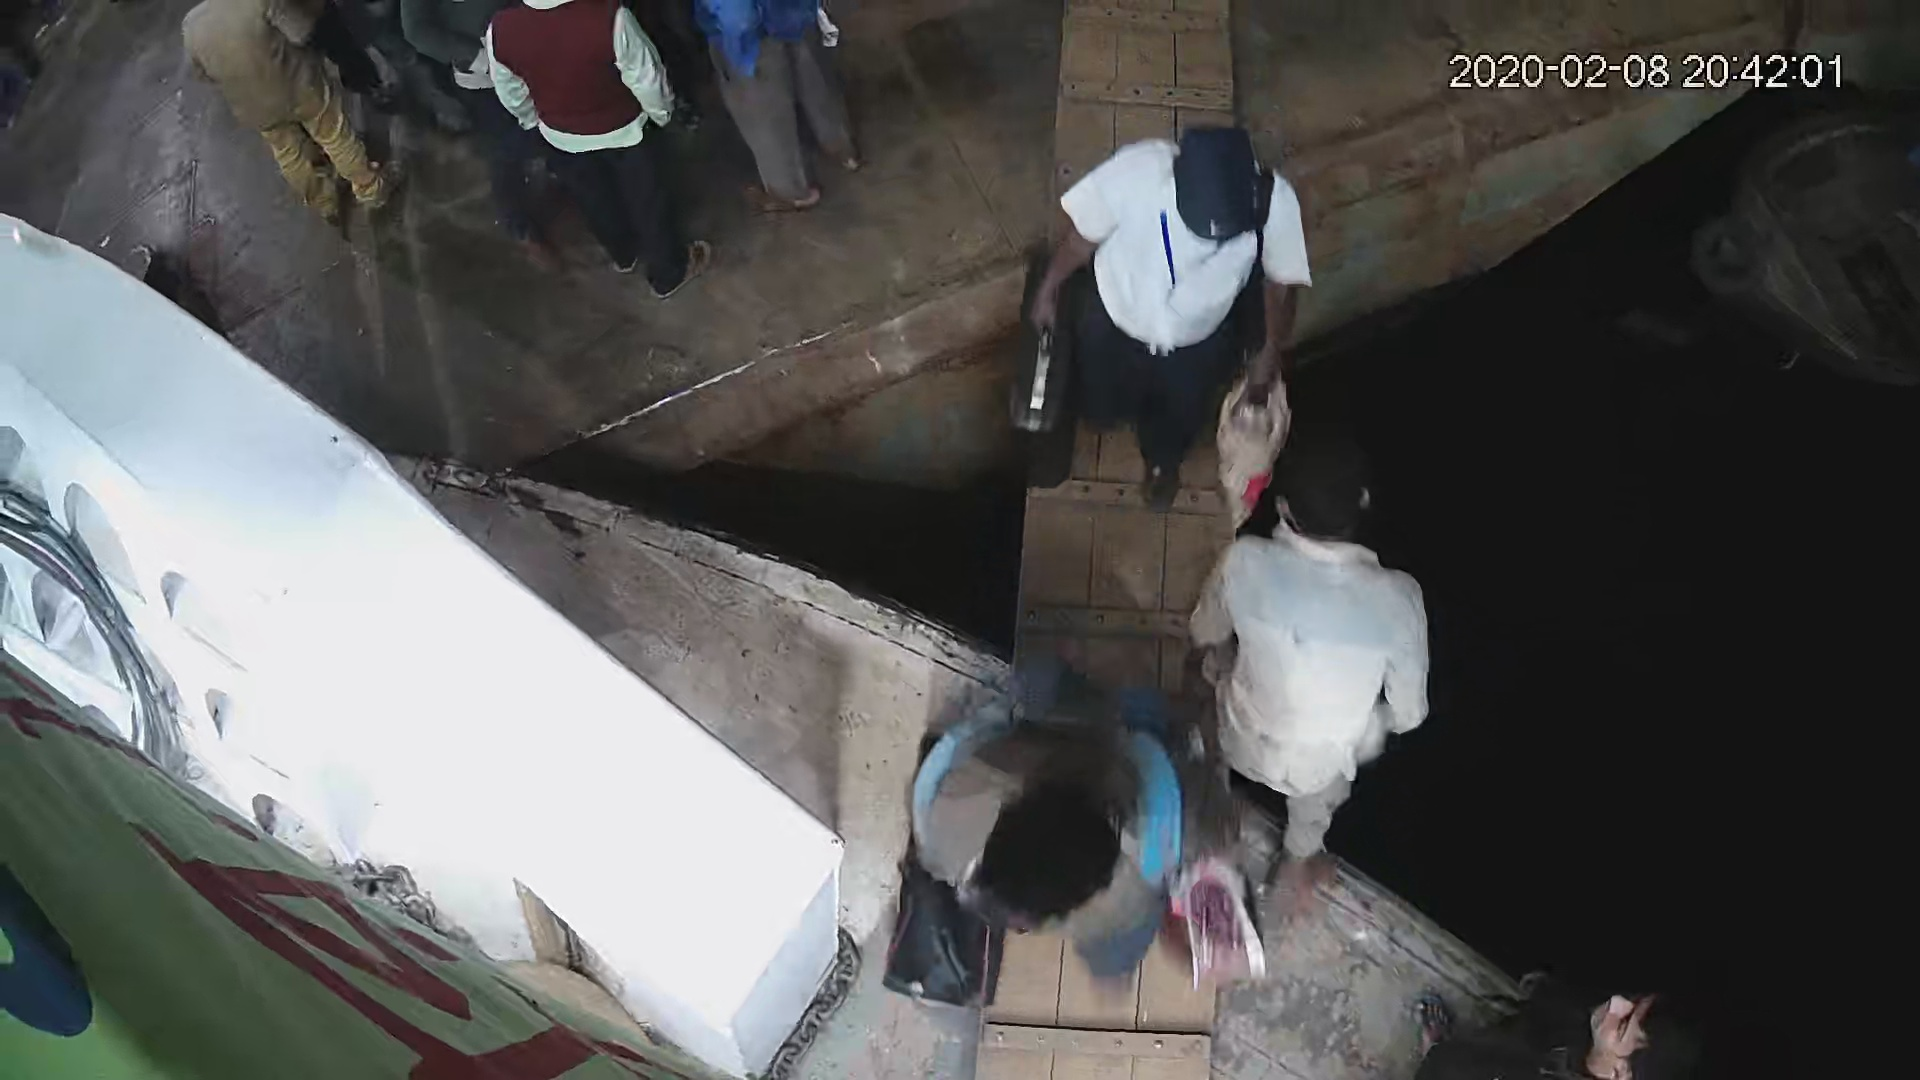person: (1183, 441, 1438, 915), (1013, 120, 1319, 499), (898, 691, 1258, 984), (463, 1, 711, 309), (167, 11, 404, 230), (1410, 957, 1715, 1080)
